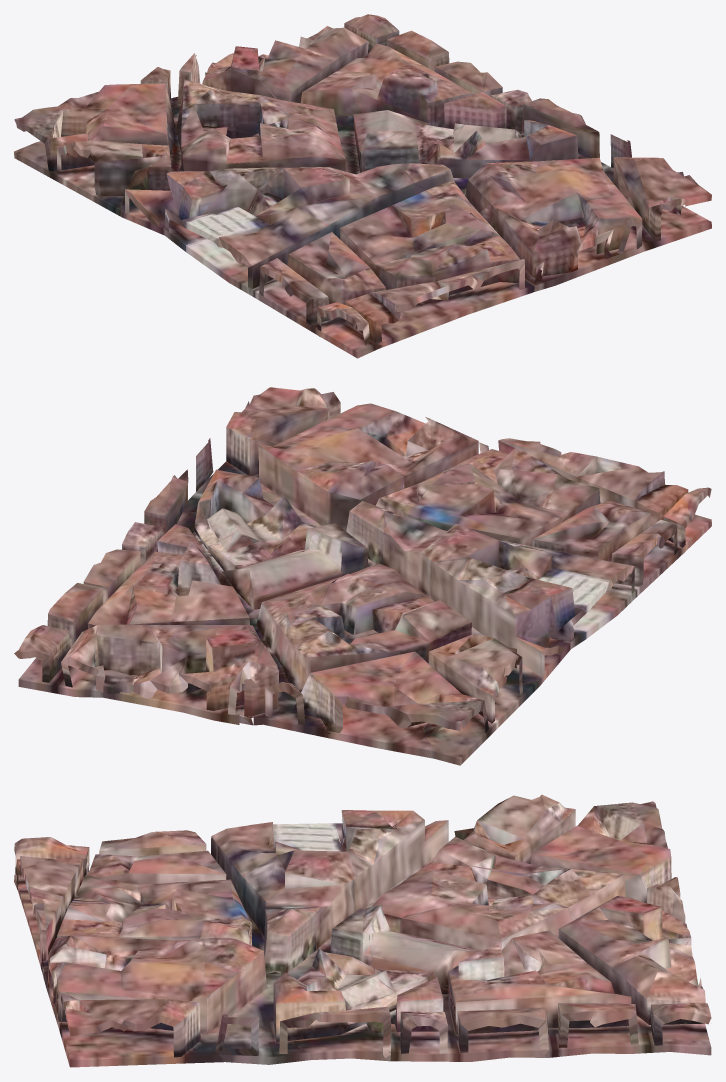
The picture shows the model from 3 angles, top to bottom: view 1: azimuth 30°, elevation 25°; view 2: azimuth 150°, elevation 25°; view 3: azimuth 270°, elevation 25°; orthographic projection. The views are drawn at different scales.
Visible parts, largest first — view 1: Mesh_0; view 2: Mesh_0; view 3: Mesh_0.
Boxes of the visible parts, x1,y1,x2,y2 form: Mesh_0: (14,14,711,358); Mesh_0: (14,387,711,765); Mesh_0: (14,794,711,1067).
Bounding box in the file's own units: 266 × 44.66 × 330.
2 materials, 2 textured.
